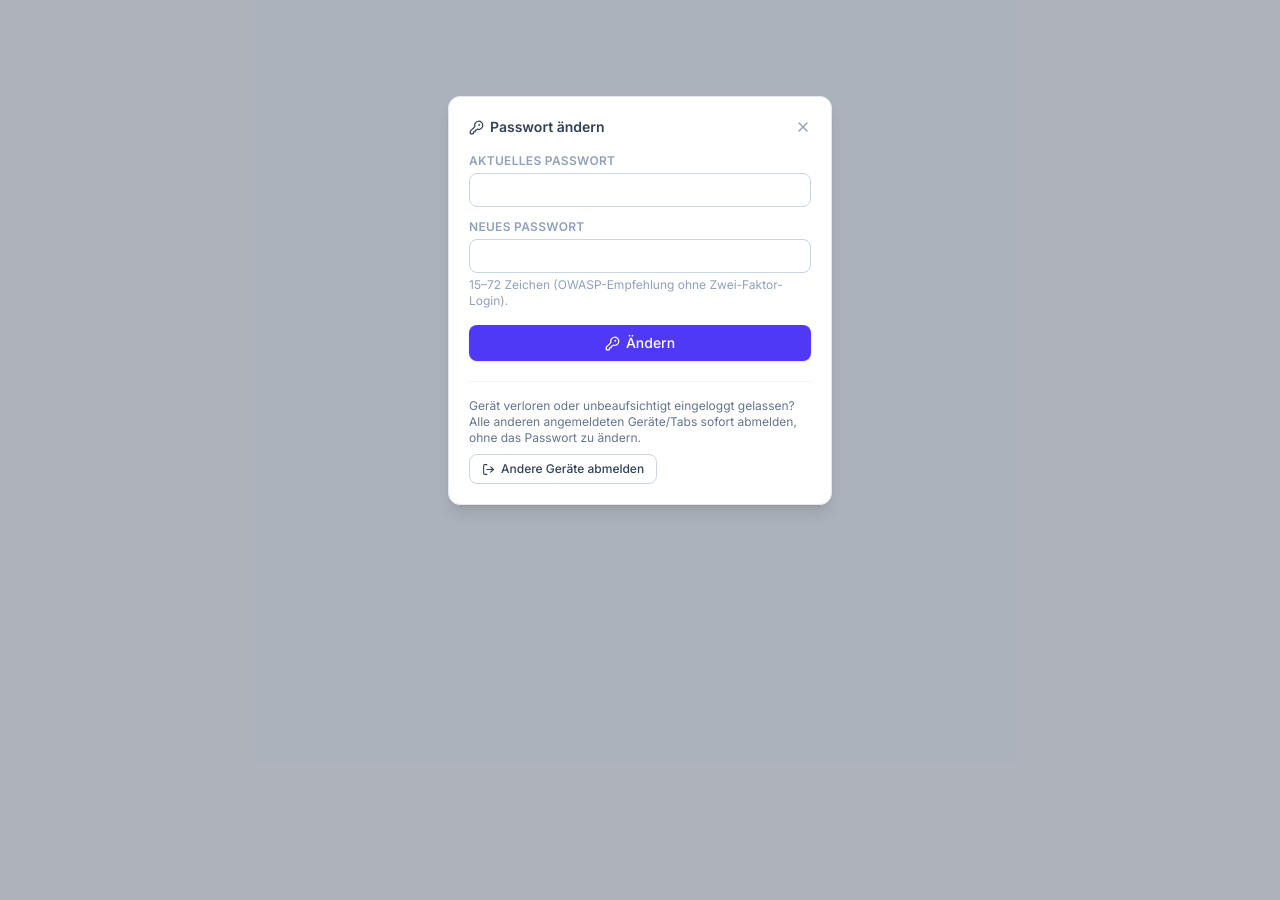
Test: PasswortAendernDialog › meldet andere Geräte ab und zeigt die Anzahl beendeter Sitzungen
Step 1. Click the button "Andere Geräte abmelden" → (563, 469), box [469,454,657,484]
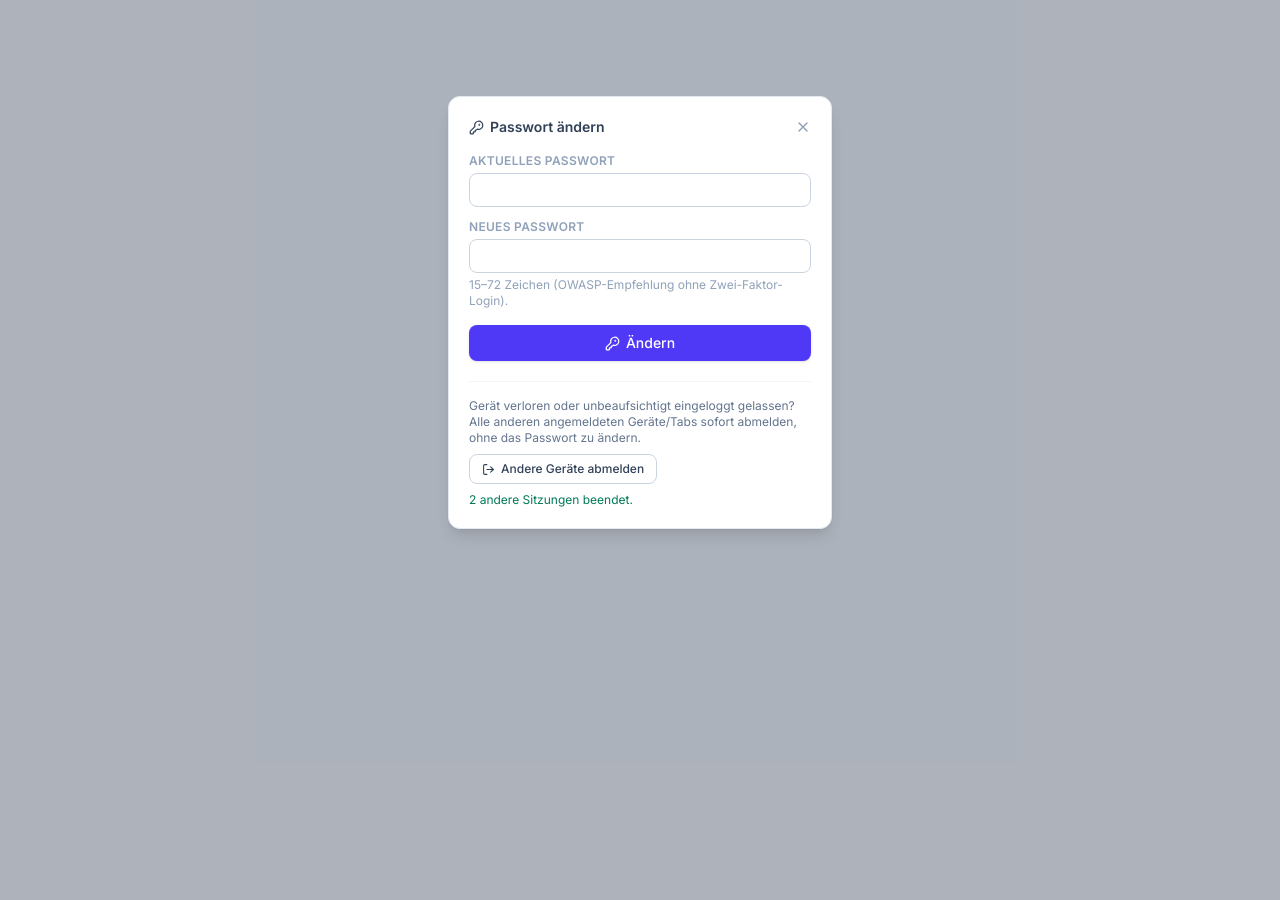
Expected: the text "2 andere Sitzungen beendet." is shown, [469,492,633,507]
